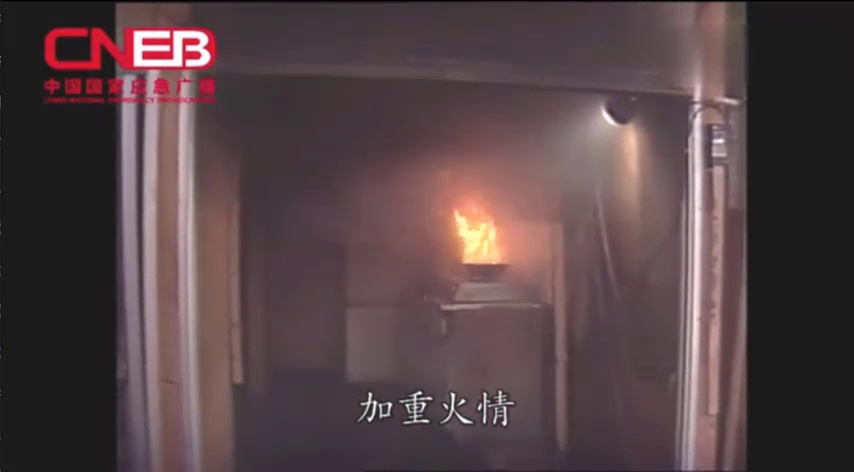fire: (445, 196, 504, 274)
